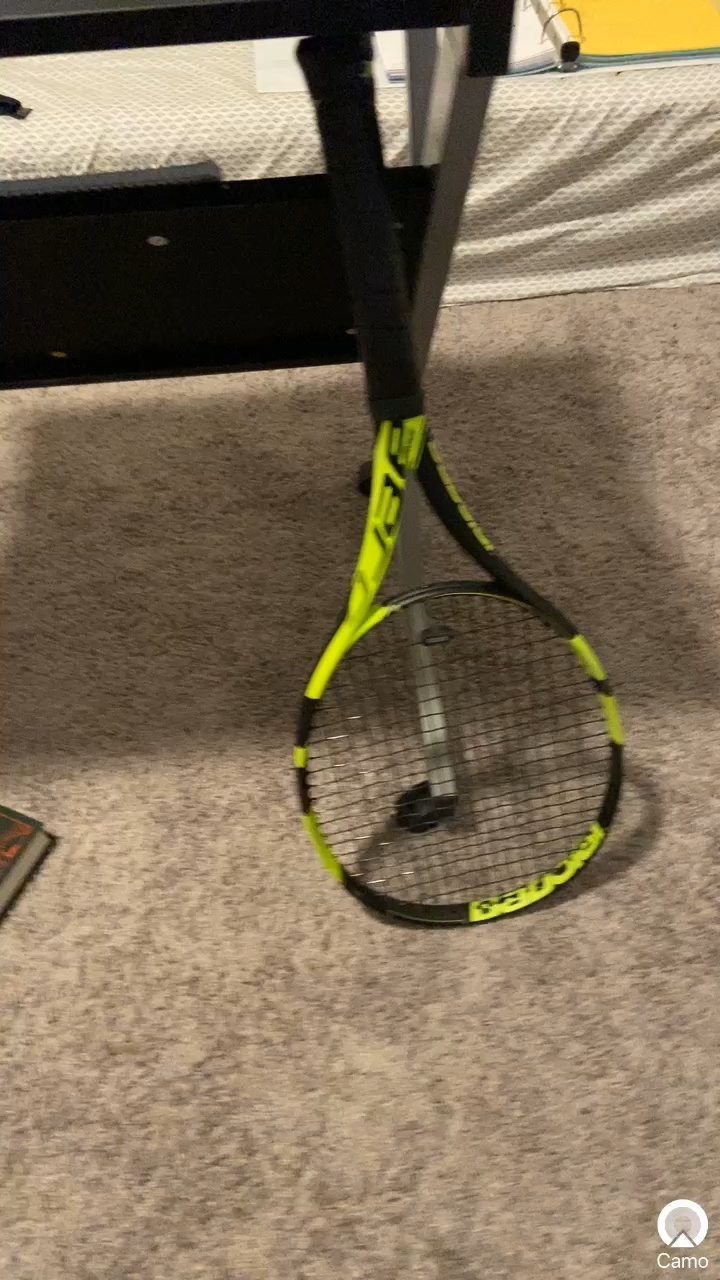Tennis_Racquet: (271, 28, 643, 976)
